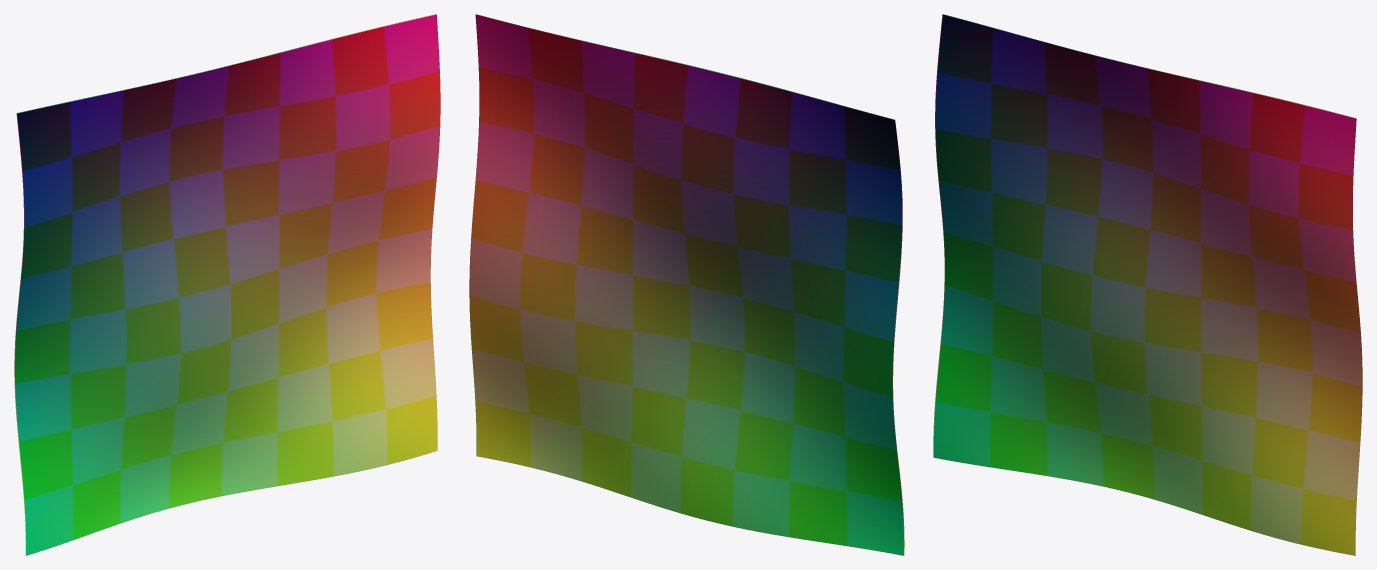
File: Tile_+014_+016.obj
3 renders of one model, left to right at view 1: azimuth 30°, elevation 25°; view 2: azimuth 150°, elevation 25°; view 3: azimuth 330°, elevation 25°, orthographic.
Size of the model in its own units: 100 by 100 by 5.73.
